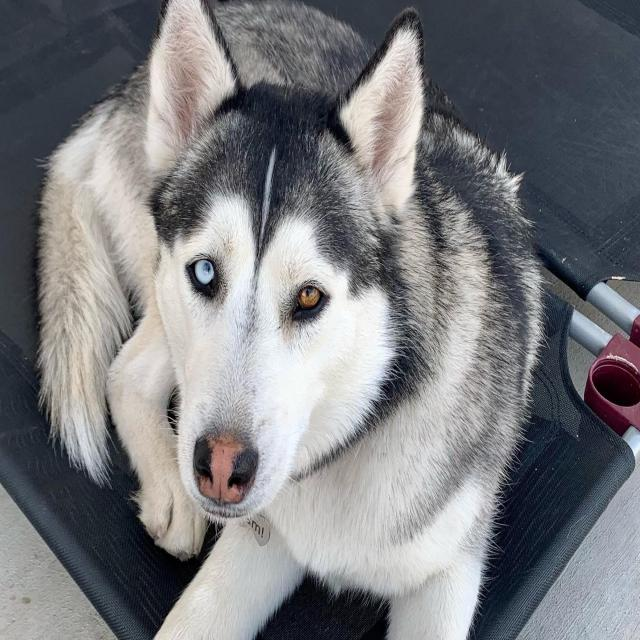Dog: (2, 1, 630, 639)
